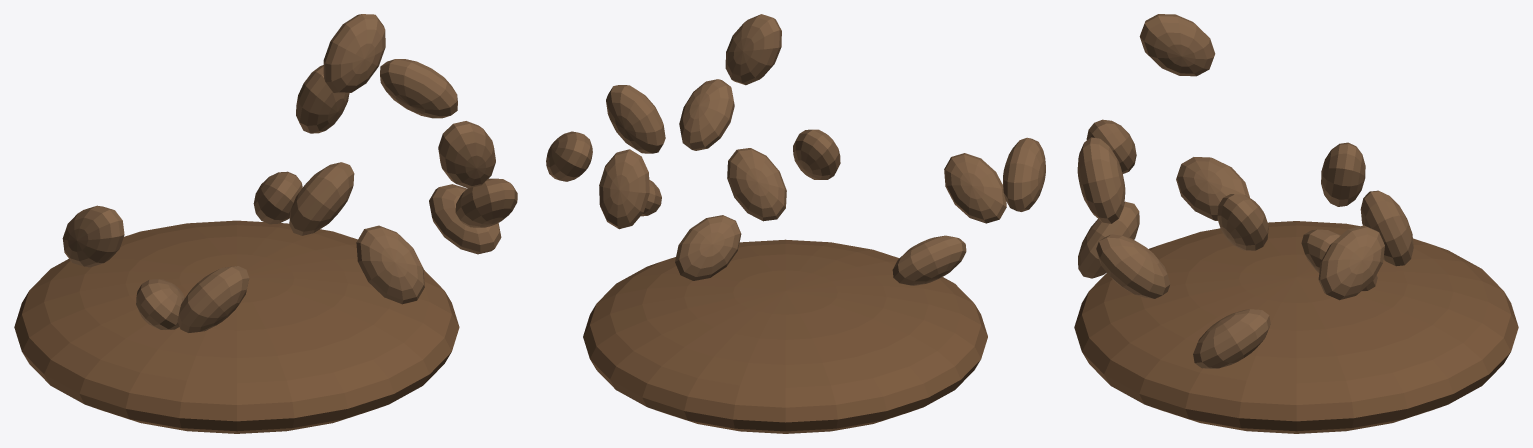
Rendered from coffee-beans.glb.
The picture shows the model from 3 angles, left to right: view 1: azimuth 30°, elevation 25°; view 2: azimuth 150°, elevation 25°; view 3: azimuth 270°, elevation 25°; orthographic projection. The views are drawn at different scales.
Visible parts, largest first — view 1: CoffeeGrounds_Pile, CoffeeBean_0, CoffeeBean_6, CoffeeBean_10, CoffeeBean_11, CoffeeBean_8, CoffeeBean_3, CoffeeBean_2, CoffeeBean_4, CoffeeBean_1, CoffeeBean_5, CoffeeBean_7 (+1 smaller); view 2: CoffeeGrounds_Pile, CoffeeBean_8, CoffeeBean_11, CoffeeBean_5, CoffeeBean_9, CoffeeBean_3, CoffeeBean_1, CoffeeBean_6, CoffeeBean_7, CoffeeBean_2, CoffeeBean_0, CoffeeBean_10; view 3: CoffeeGrounds_Pile, CoffeeBean_10, CoffeeBean_2, CoffeeBean_1, CoffeeBean_4, CoffeeBean_3, CoffeeBean_7, CoffeeBean_5, CoffeeBean_6, CoffeeBean_8, CoffeeBean_0, CoffeeBean_11 (+1 smaller).
Boxes of the visible parts, <box> form: CoffeeGrounds_Pile: <box>14,220,459,433</box>; CoffeeBean_0: <box>356,225,424,304</box>; CoffeeBean_6: <box>323,14,385,93</box>; CoffeeBean_10: <box>380,59,457,118</box>; CoffeeBean_11: <box>177,266,249,332</box>; CoffeeBean_8: <box>289,162,354,235</box>; CoffeeBean_3: <box>438,121,495,188</box>; CoffeeBean_2: <box>62,205,124,267</box>; CoffeeBean_4: <box>429,184,501,254</box>; CoffeeBean_1: <box>455,178,517,227</box>; CoffeeBean_5: <box>296,65,349,133</box>; CoffeeBean_7: <box>136,279,184,329</box>; CoffeeGrounds_Pile: <box>583,239,987,433</box>; CoffeeBean_8: <box>727,148,786,221</box>; CoffeeBean_11: <box>944,153,1006,223</box>; CoffeeBean_5: <box>599,149,649,229</box>; CoffeeBean_9: <box>675,215,741,280</box>; CoffeeBean_3: <box>725,14,781,85</box>; CoffeeBean_1: <box>679,79,734,150</box>; CoffeeBean_6: <box>606,85,665,153</box>; CoffeeBean_7: <box>892,235,966,285</box>; CoffeeBean_2: <box>1003,137,1045,211</box>; CoffeeBean_0: <box>793,129,840,179</box>; CoffeeBean_10: <box>546,131,592,181</box>; CoffeeGrounds_Pile: <box>1074,221,1518,433</box>; CoffeeBean_10: <box>1318,225,1384,300</box>; CoffeeBean_2: <box>1139,14,1215,76</box>; CoffeeBean_1: <box>1096,234,1170,298</box>; CoffeeBean_4: <box>1193,309,1270,368</box>; CoffeeBean_3: <box>1077,137,1125,223</box>; CoffeeBean_7: <box>1176,157,1249,220</box>; CoffeeBean_5: <box>1360,190,1413,266</box>; CoffeeBean_6: <box>1321,142,1365,206</box>; CoffeeBean_8: <box>1217,194,1268,250</box>; CoffeeBean_0: <box>1078,201,1139,278</box>; CoffeeBean_11: <box>1086,119,1136,173</box>.
Bounding box in the file's own units: 0.2159 × 0.1373 × 0.18.
